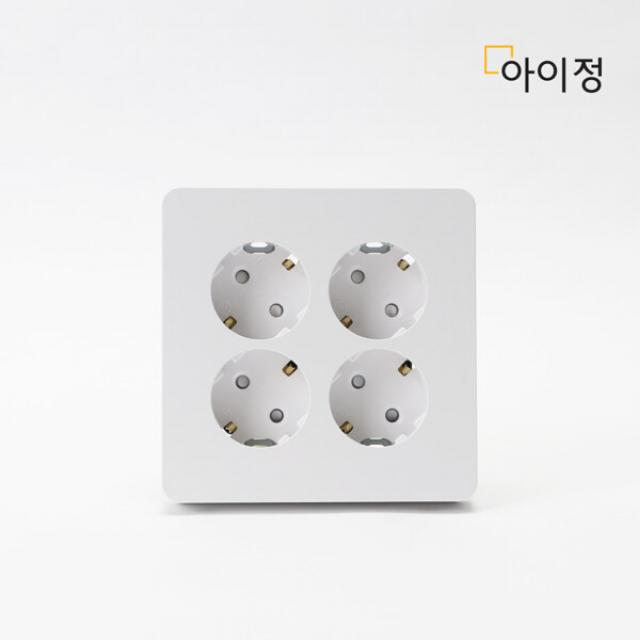typeb: (152, 176, 492, 519)
